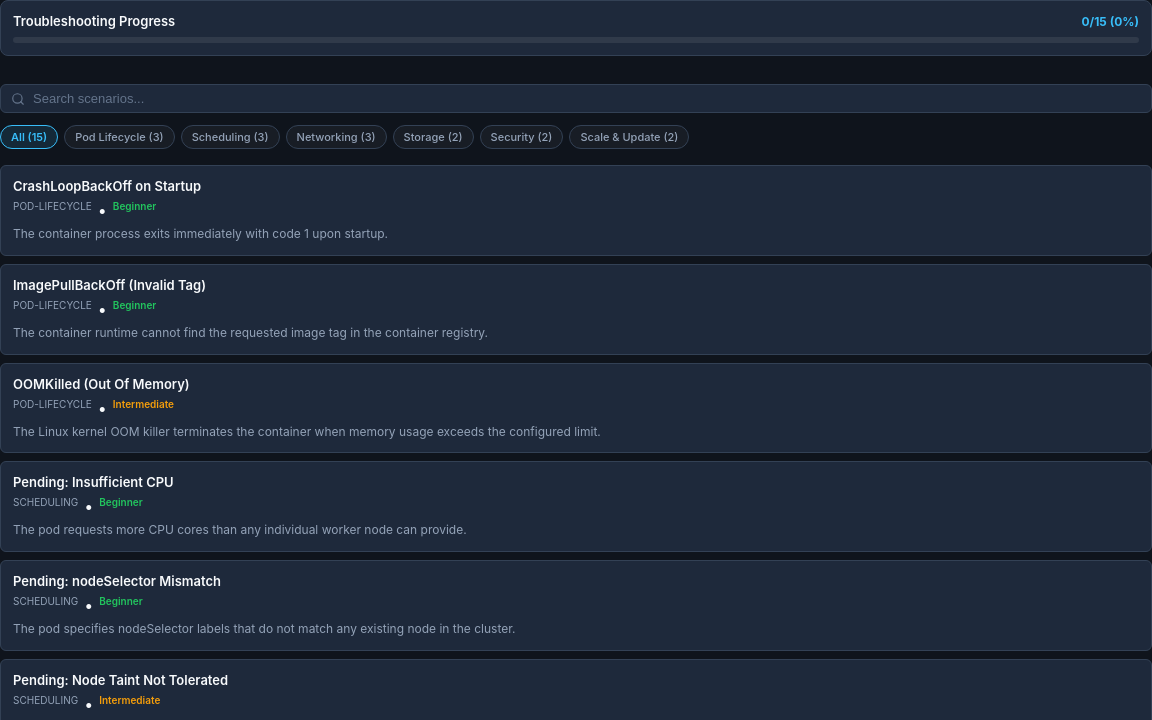
Test: ScenarioList › renders empty state when search matches nothing and resets filters on click
The width and height of the screenshot is (1152, 720).
Type "nonexistent-query-123" into the field with placeholder "Search scenarios...". click: (587, 98)
box: x1=33 y1=91 x2=1141 y2=106
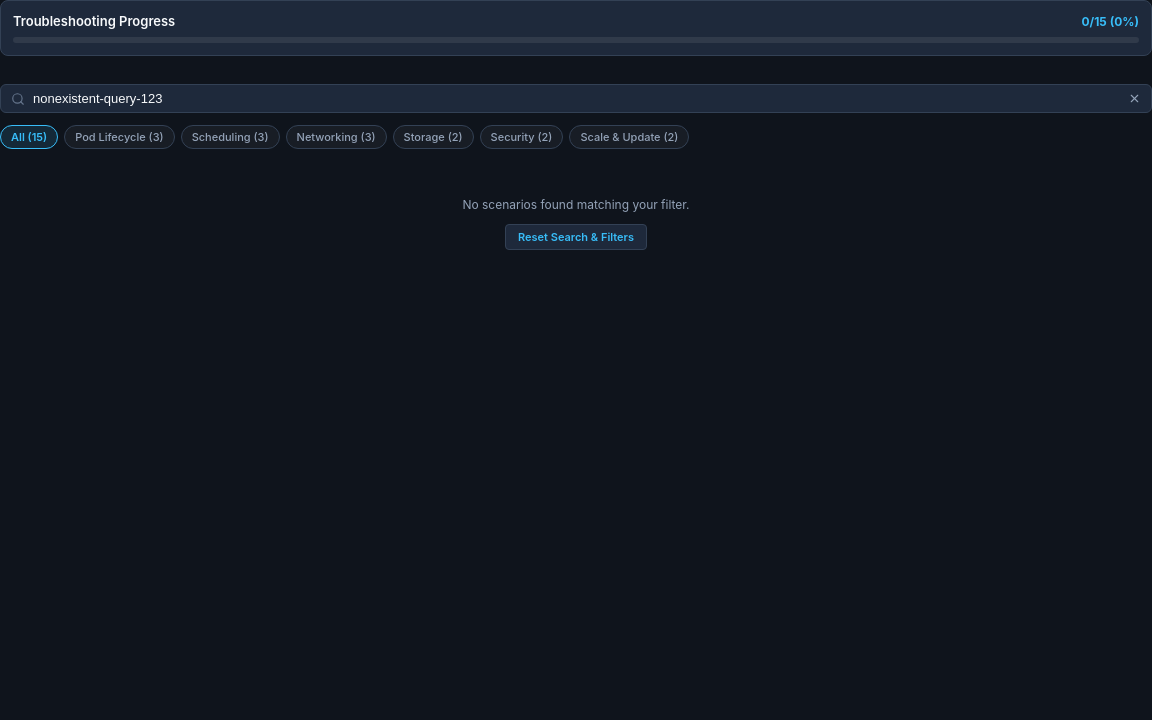
Now the element with test id "no-scenarios-found" is shown, box x1=462 y1=197 x2=690 y2=250
Now the text "No scenarios found matching your filter." is shown, box x1=462 y1=197 x2=690 y2=212
Click the button with test id "reset-filters-btn". click: (576, 237)
box: x1=505 y1=224 x2=647 y2=250
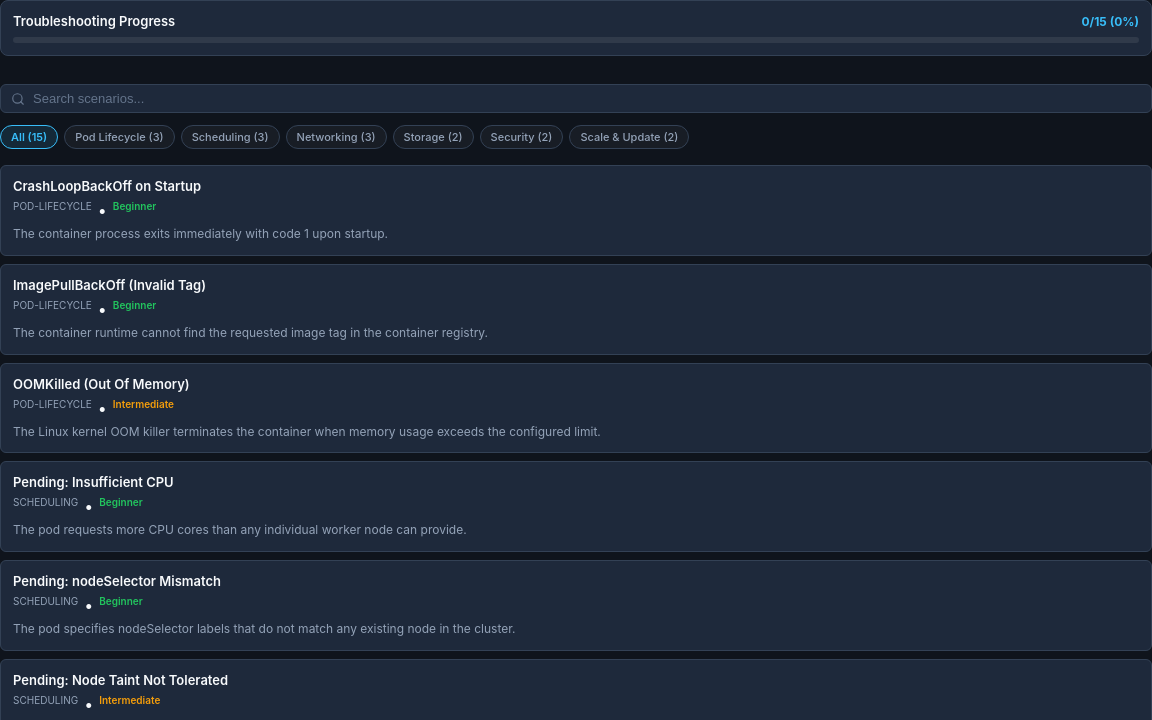
Now the element with test id "no-scenarios-found" is gone
Now the text "CrashLoopBackOff on Startup" is shown, box x1=13 y1=178 x2=201 y2=194
